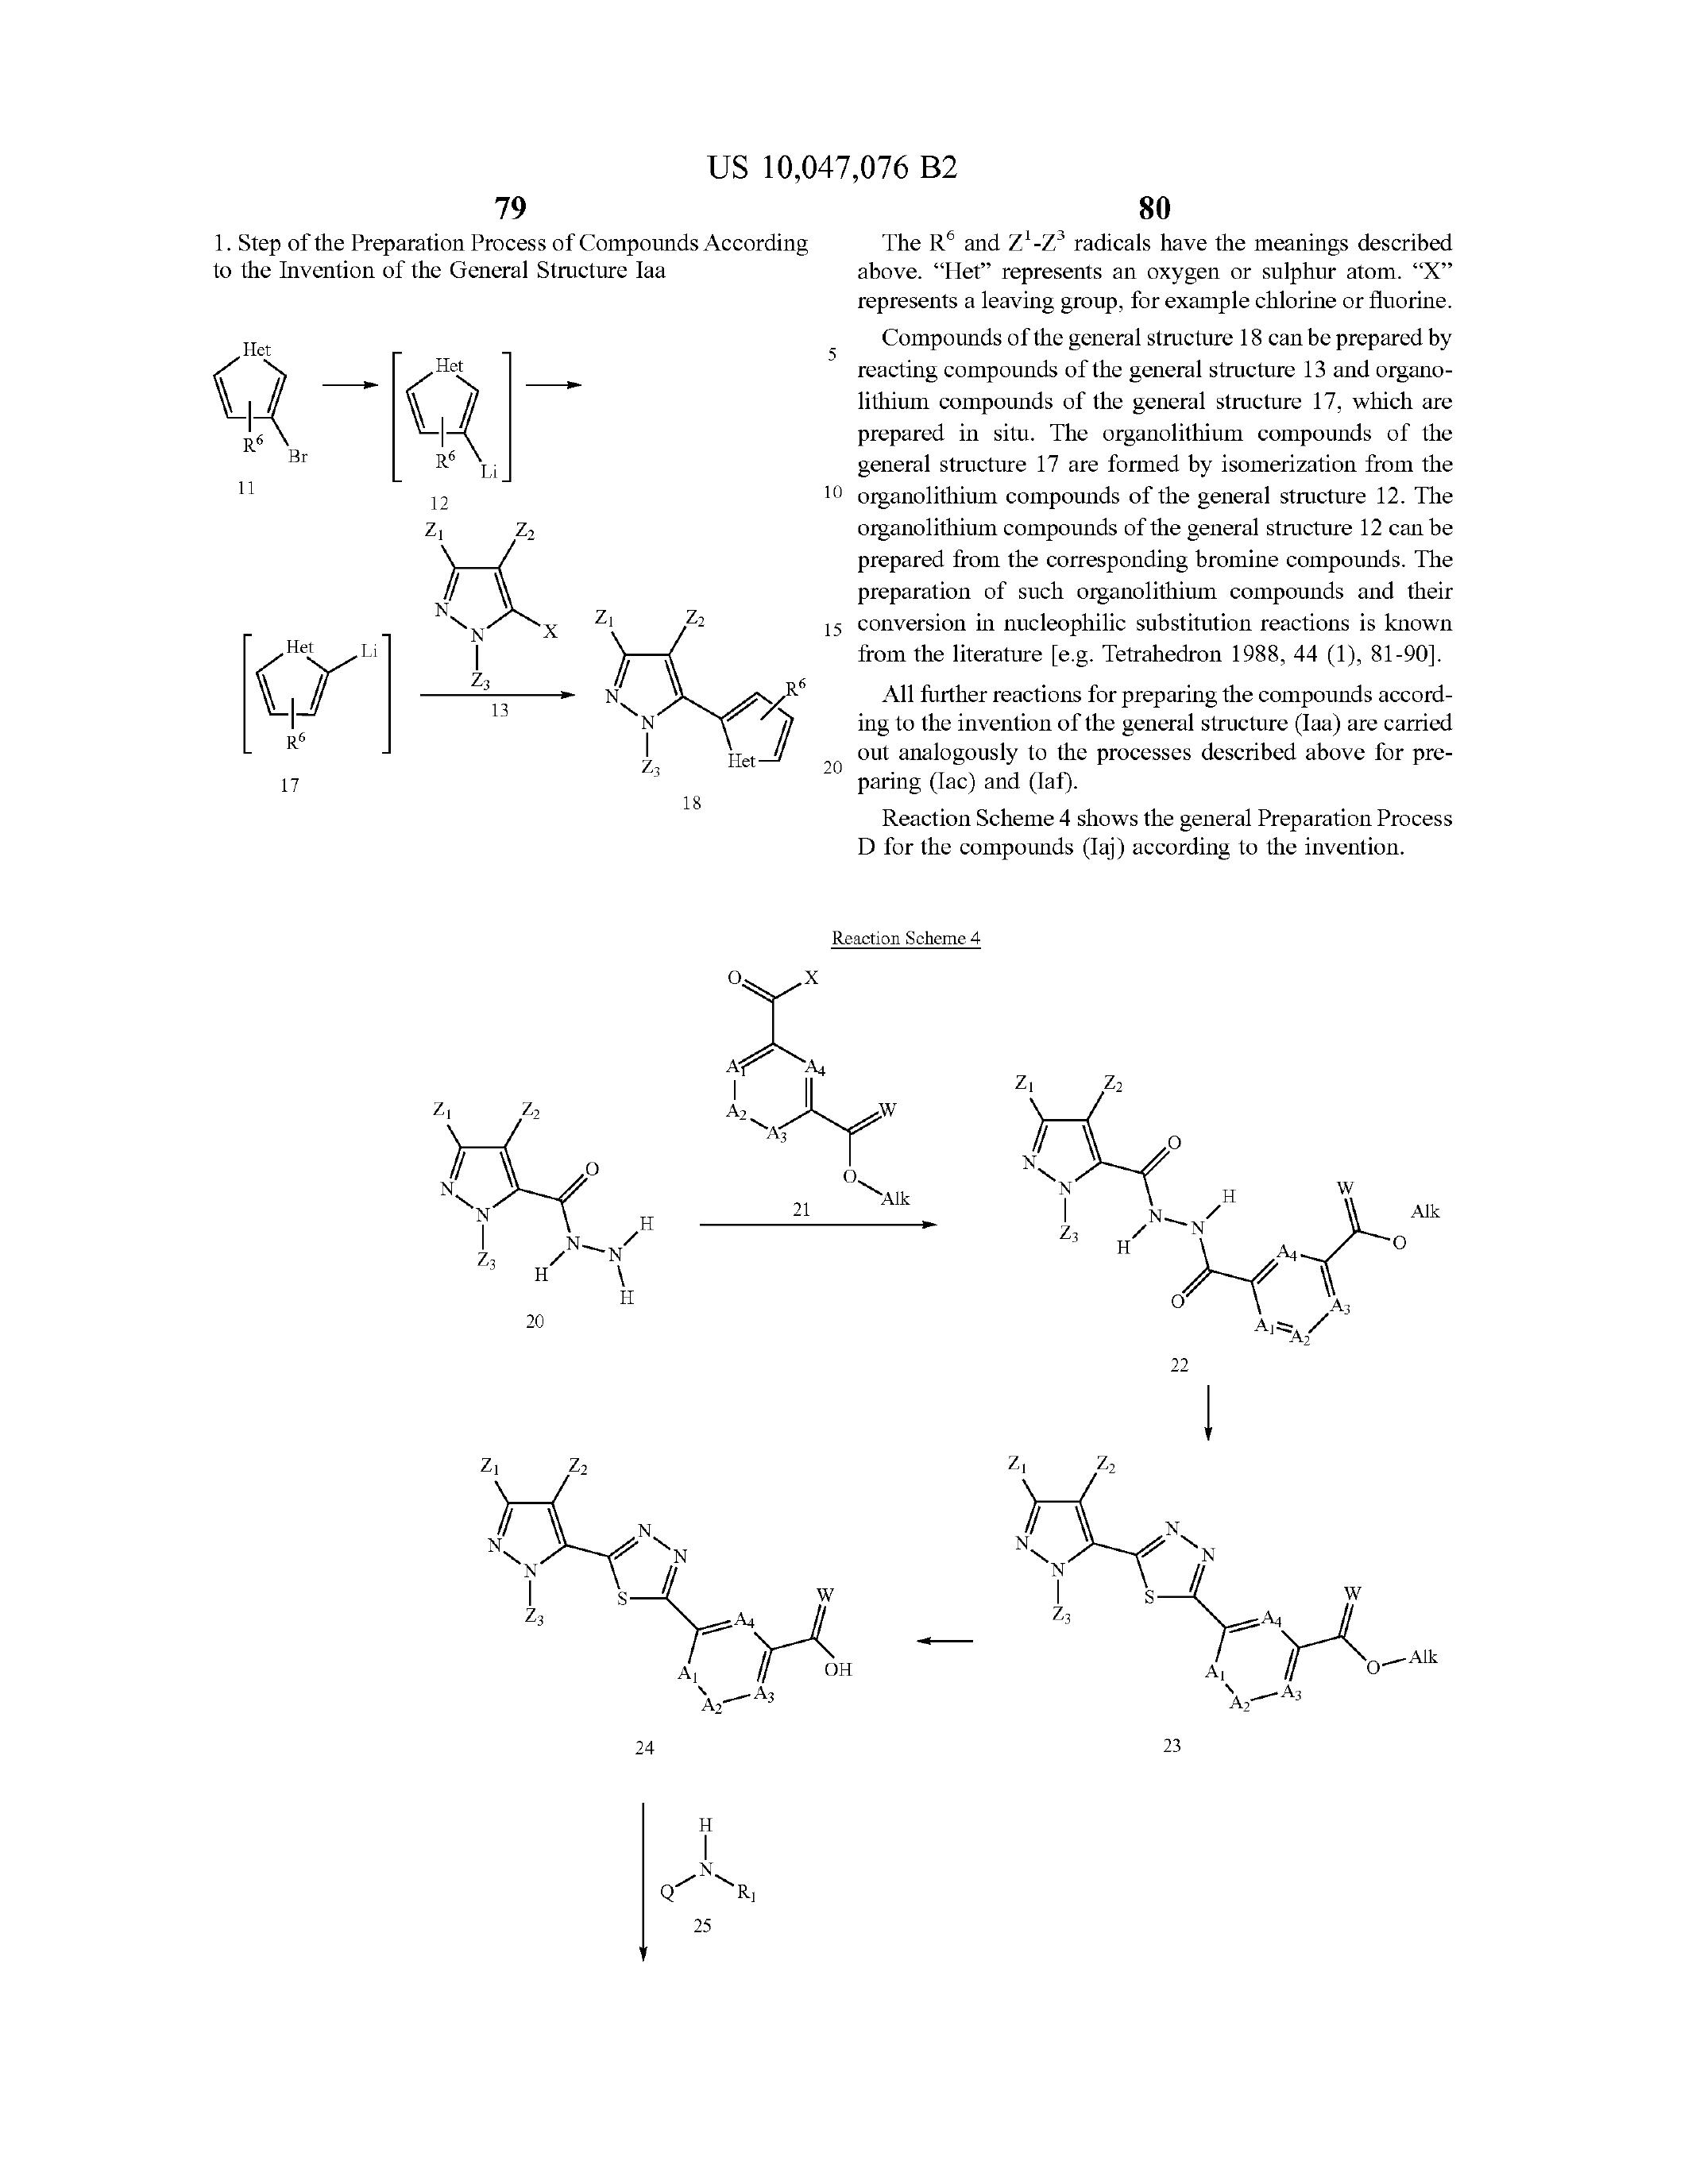intermediates: (140, 573, 408, 792)
reactions: (223, 970, 1497, 1984), (317, 955, 1688, 1672)
